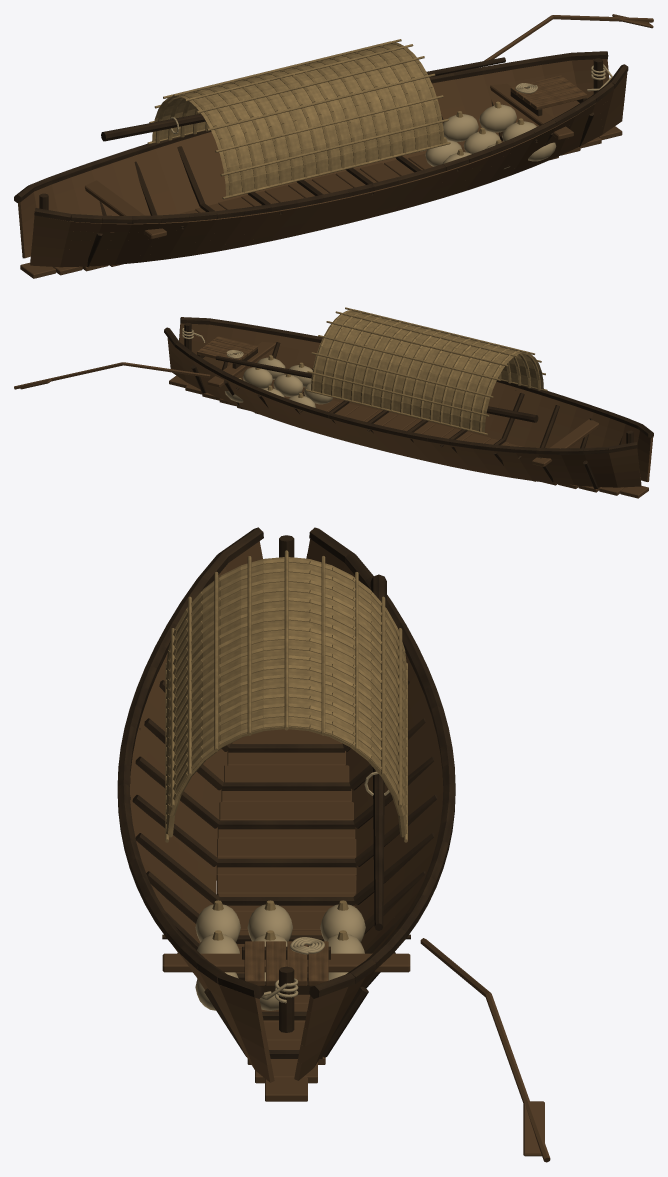
The model's file is boat-observation.glb.
3 views of the same model, one above another, from view 1: azimuth 30°, elevation 25°; view 2: azimuth 150°, elevation 25°; view 3: azimuth 270°, elevation 25° (orthographic). The views are drawn at different scales.
Visible parts, largest first — view 1: detail_cargo_boat_Boat seasoned oak, detail_cargo_boat_Boat split reed weave, detail_cargo_boat_Boat dark structural timber, detail_cargo_boat_Boat unbleached hemp; view 2: detail_cargo_boat_Boat seasoned oak, detail_cargo_boat_Boat split reed weave, detail_cargo_boat_Boat dark structural timber, detail_cargo_boat_Boat unbleached hemp; view 3: detail_cargo_boat_Boat seasoned oak, detail_cargo_boat_Boat split reed weave, detail_cargo_boat_Boat dark structural timber, detail_cargo_boat_Boat unbleached hemp.
Boxes of the visible parts, left/top/right/bottom form: detail_cargo_boat_Boat seasoned oak: left=18, top=14, right=653, bottom=278; detail_cargo_boat_Boat split reed weave: left=147, top=39, right=524, bottom=199; detail_cargo_boat_Boat dark structural timber: left=14, top=51, right=628, bottom=266; detail_cargo_boat_Boat unbleached hemp: left=170, top=64, right=612, bottom=168; detail_cargo_boat_Boat seasoned oak: left=14, top=323, right=653, bottom=498; detail_cargo_boat_Boat split reed weave: left=239, top=307, right=547, bottom=434; detail_cargo_boat_Boat dark structural timber: left=164, top=317, right=653, bottom=488; detail_cargo_boat_Boat unbleached hemp: left=182, top=328, right=332, bottom=407; detail_cargo_boat_Boat seasoned oak: left=130, top=539, right=550, bottom=1162; detail_cargo_boat_Boat split reed weave: left=165, top=550, right=407, bottom=940; detail_cargo_boat_Boat dark structural timber: left=117, top=527, right=455, bottom=1058; detail_cargo_boat_Boat unbleached hemp: left=195, top=771, right=389, bottom=1010.
Bounding box in the file's own units: 12.05 × 2.29 × 3.99.
4 materials, 4 textured.
